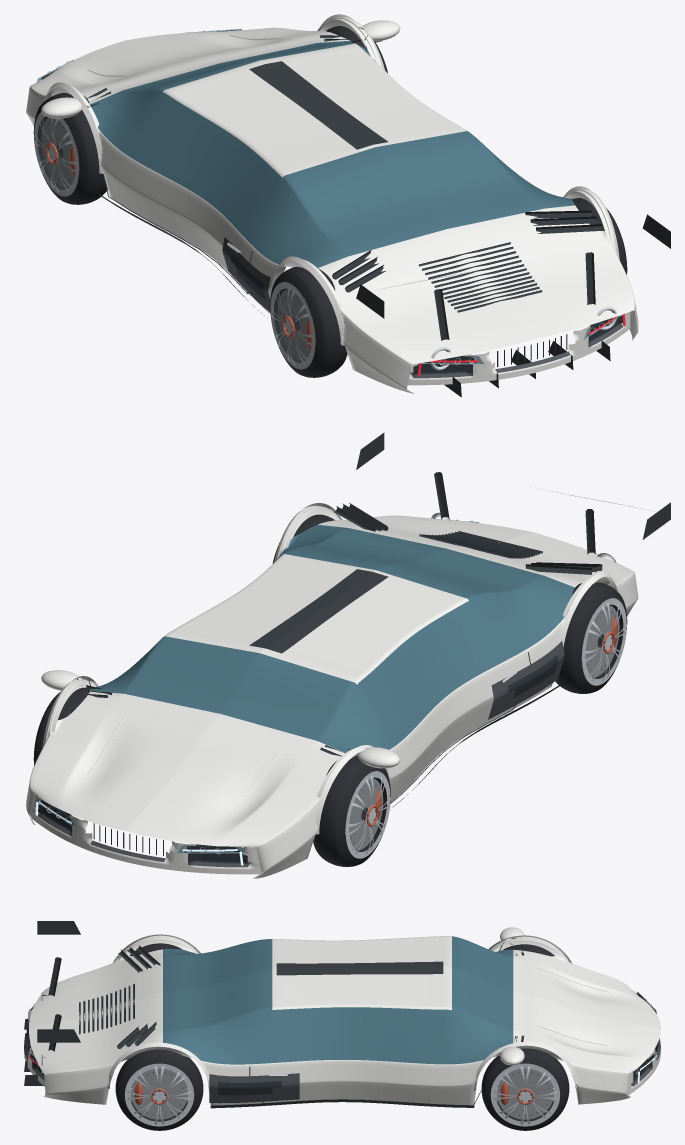
File: aether_one.glb
3 renders of one model, top to bottom at view 1: azimuth 30°, elevation 25°; view 2: azimuth 150°, elevation 25°; view 3: azimuth 270°, elevation 25°, orthographic. The views are drawn at different scales.
Parts seen in each view (by area): view 1: Body, Wheel_2, Wheel_0, Wheel_3; view 2: Body, Wheel_0, Wheel_2, Wheel_1; view 3: Body, Wheel_3, Wheel_1.
Boxes of the visible parts, x1=… form: Body: x1=26, y1=14, x2=670, y2=397; Wheel_2: x1=270, y1=266, x2=347, y2=377; Wheel_0: x1=33, y1=92, x2=107, y2=204; Wheel_3: x1=572, y1=198, x2=627, y2=274; Body: x1=26, y1=432, x2=670, y2=878; Wheel_0: x1=313, y1=756, x2=390, y2=866; Wheel_2: x1=555, y1=582, x2=627, y2=693; Wheel_1: x1=33, y1=687, x2=89, y2=765; Body: x1=24, y1=921, x2=660, y2=1108; Wheel_3: x1=115, y1=1049, x2=203, y2=1130; Wheel_1: x1=481, y1=1048, x2=569, y2=1130.
Size of the model in its own units: 2.68 by 1.01 by 5.53.
